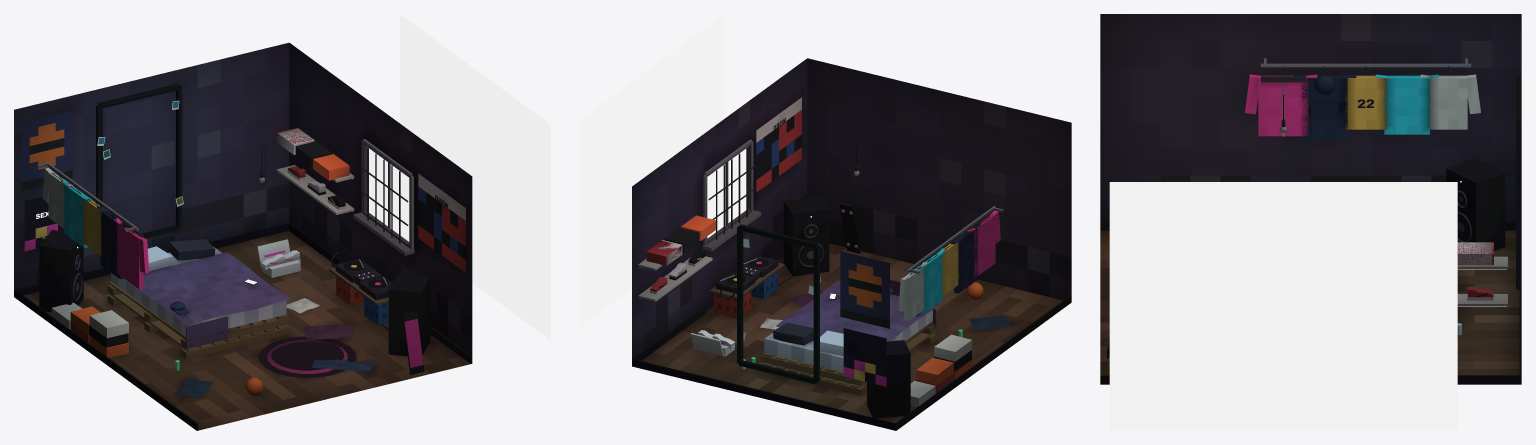
The model's file is quarto.glb.
3 renders of one model, left to right at view 1: azimuth 30°, elevation 25°; view 2: azimuth 150°, elevation 25°; view 3: azimuth 270°, elevation 25°, orthographic. The views are drawn at different scales.
Parts seen in each view (by area): view 1: sala_solido, sala_luz, sala_vidro; view 2: sala_solido, sala_luz, sala_vidro; view 3: sala_luz, sala_solido.
Boxes of the visible parts, x1,y1,x2,y2 form: sala_solido: (14,42,472,430); sala_luz: (36,14,550,340); sala_vidro: (367,147,409,241); sala_solido: (632,58,1071,430); sala_luz: (579,14,835,327); sala_vidro: (707,147,747,238); sala_luz: (1109,181,1461,430); sala_solido: (1100,14,1521,384).
Bounding box in the file's own units: 5.2 × 3.02 × 4.6.
